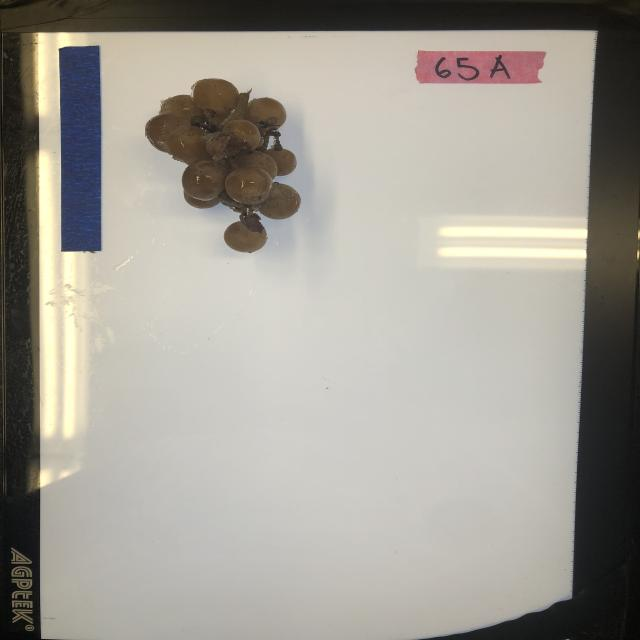grape_cluster: (146, 76, 304, 254)
index: (414, 48, 550, 84)
measure_label: (59, 44, 106, 252)
